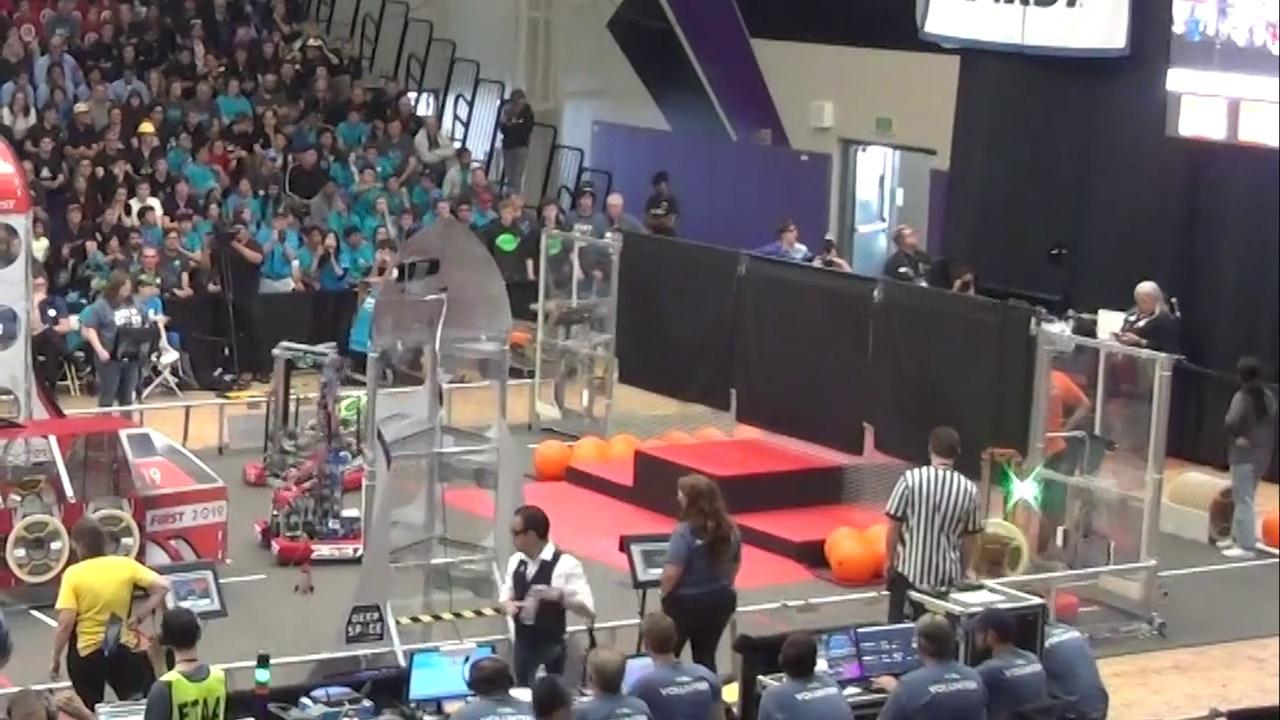robot: (240, 337, 367, 488), (252, 458, 362, 568)
